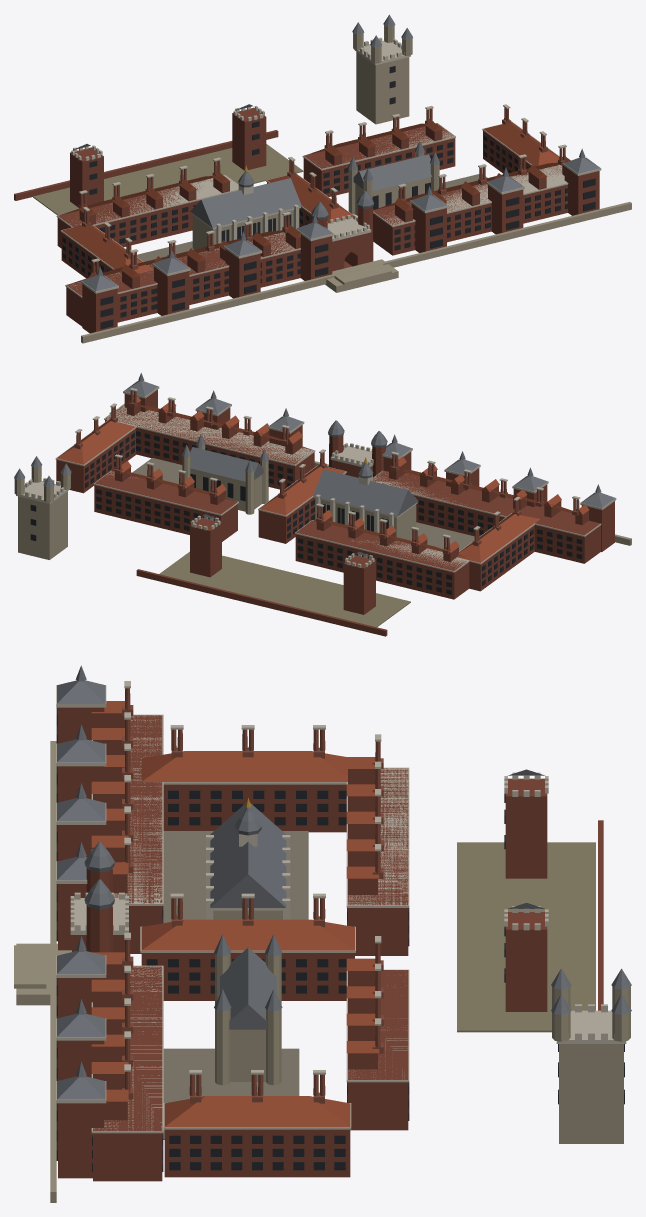
File: greenwich_palace_placentia.glb
3 renders of one model, top to bottom at view 1: azimuth 30°, elevation 25°; view 2: azimuth 150°, elevation 25°; view 3: azimuth 270°, elevation 25°, orthographic. The views are drawn at different scales.
Visible parts, largest first — view 1: greenwich_palace_placentia; view 2: greenwich_palace_placentia; view 3: greenwich_palace_placentia.
Boxes of the visible parts, x1=… form: greenwich_palace_placentia: x1=14, y1=14, x2=631, y2=343; greenwich_palace_placentia: x1=14, y1=373, x2=631, y2=636; greenwich_palace_placentia: x1=14, y1=665, x2=631, y2=1202.
Size of the model in its own units: 230 by 36.1 by 133.
